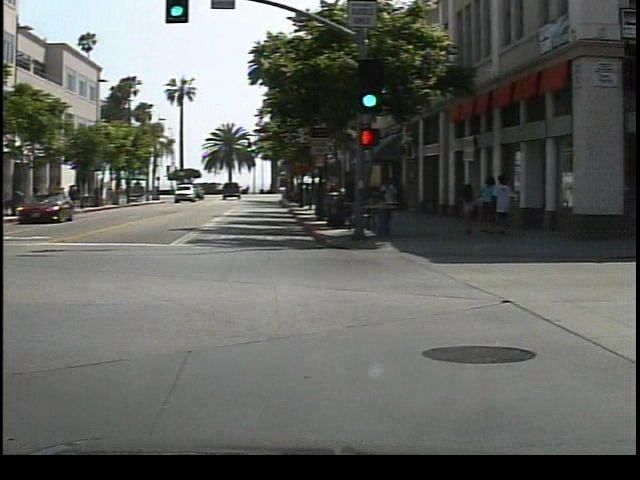person: (385, 173, 413, 228)
